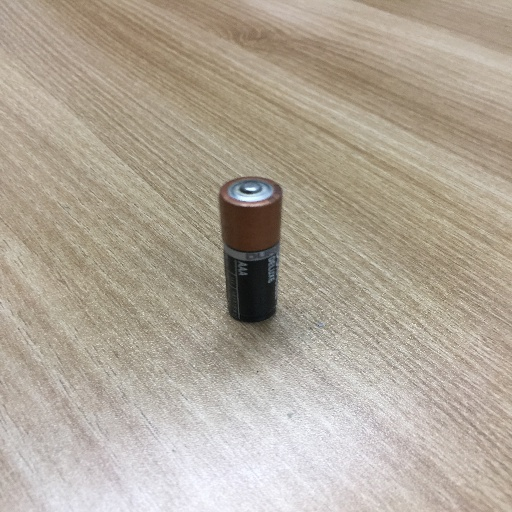Battery_0: (209, 171, 294, 337)
